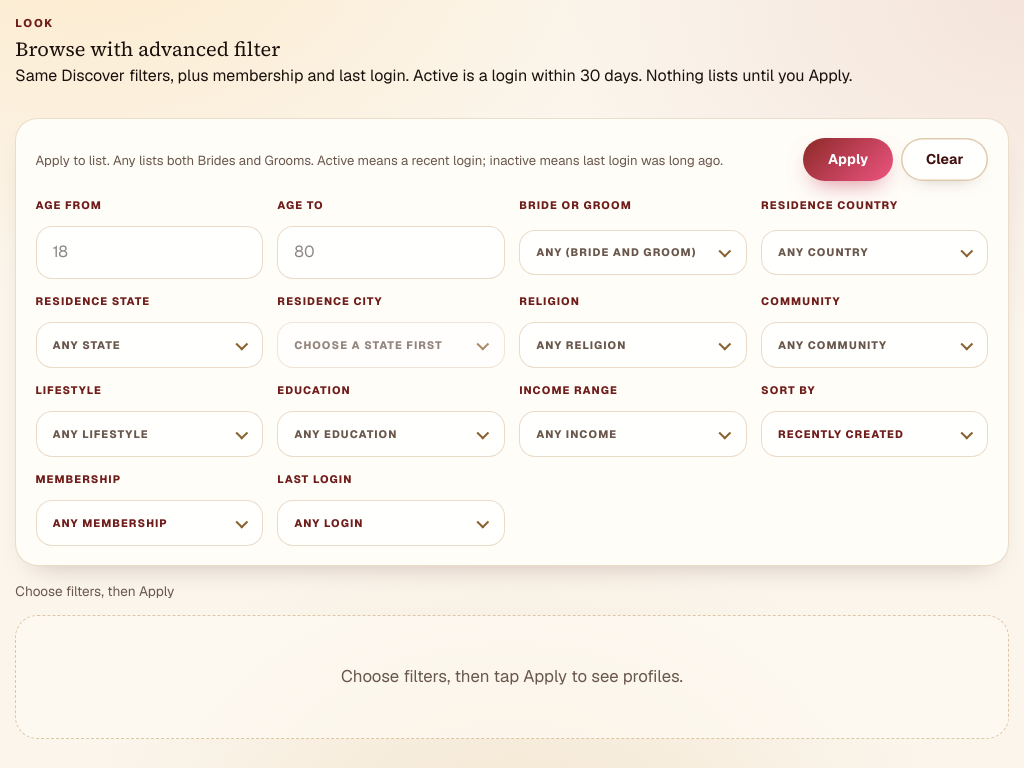
Test case: Desk look board › lists nothing until Apply, then lists both kinds when Any is kept
Expected: the heading "Choose filters, then tap Apply to see profiles." is shown, [341, 665, 683, 687]
Click the button "Apply" at (848, 160), box [803, 138, 893, 181]
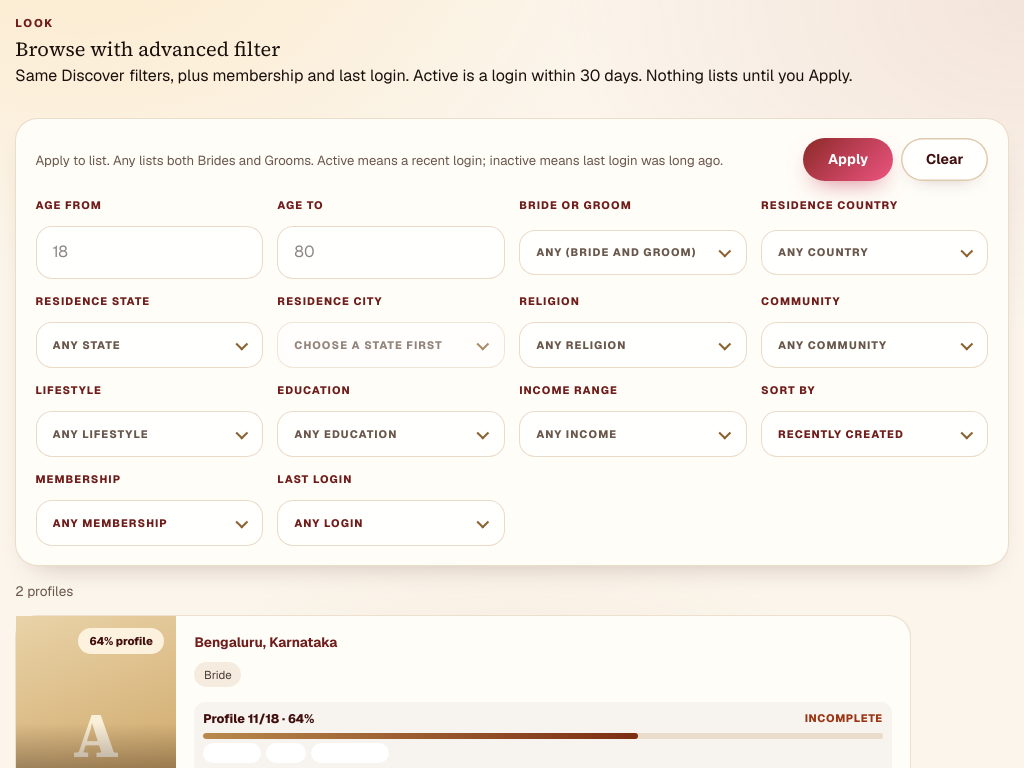
Result: the text "2 profiles" is shown at [15, 580, 73, 601]
Result: the text "64% profile" is shown at [79, 628, 164, 655]
Result: the text "Profile 11/18 · 64%" is shown at [204, 710, 315, 729]
